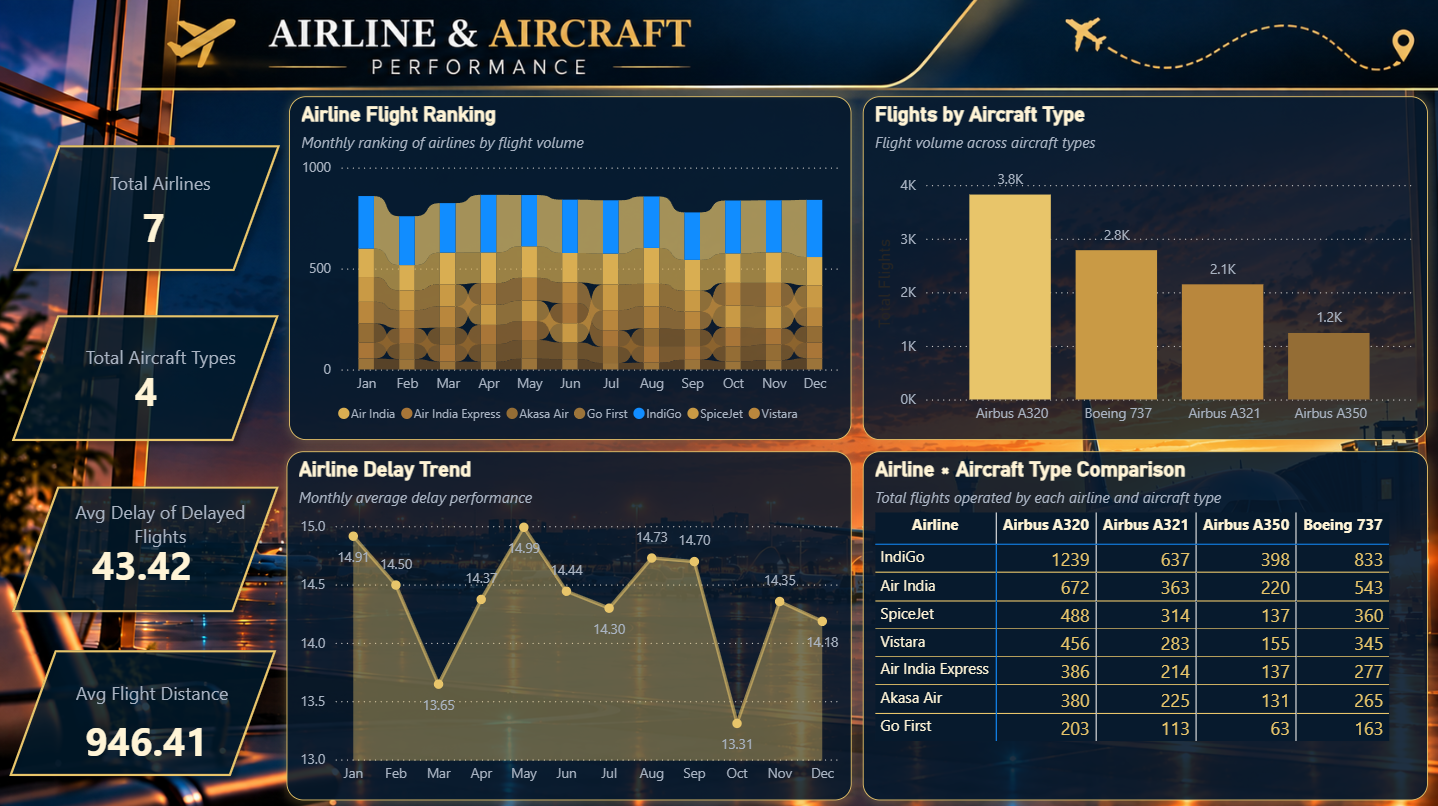

This screenshot's page, from the dashboard's own definition file:
{"tool":"powerbi","page":{"name":"Airline & Aircraft Performance","canvas":[1280,720],"ordinal":2},"visuals":[{"type":"image","box":[0,0,1280,720],"z":0},{"type":"ribbonChart","title":"Airline Flight Ranking","fields":{"Category":["Date_Table.Month"],"Y":["Flight_Data.Total Flights"],"Series":["Flight_Data.Airline"]},"box":[257.8,85.6,500,305.6],"z":1000},{"type":"clusteredColumnChart","title":"Flights by Aircraft Type","fields":{"Category":["Flight_Data.Aircraft_Type"],"Y":["Flight_Data.Total Flights"]},"box":[767.8,85.6,502.2,305.6],"z":2000},{"type":"areaChart","title":"Airline Delay Trend","fields":{"Category":["Date_Table.Month"],"Y":["Flight_Data.Average Delay"]},"box":[255.6,401.1,502.2,310],"z":3000},{"type":"pivotTable","title":"Airline × Aircraft Type Comparison","fields":{"Rows":["Flight_Data.Airline"],"Values":["Flight_Data.Total Flights"],"Columns":["Flight_Data.Aircraft_Type"]},"box":[767.8,401.1,502.2,310],"z":4000},{"type":"shape","box":[3.3,120,255.6,130],"z":5000},{"type":"shape","box":[102.2,174.4,70,53.3],"z":6000},{"type":"shape","box":[61.1,138.9,164.4,46.7],"z":7000},{"type":"shape","box":[2.2,423.3,255.6,130],"z":8000},{"type":"shape","box":[0,568.9,255.6,130],"z":9000},{"type":"shape","box":[2.2,271.1,255.6,130],"z":10000},{"type":"shape","box":[87.8,316.7,85.6,58.9],"z":11000},{"type":"shape","box":[66.7,476.7,121.1,50],"z":12000},{"type":"shape","box":[64.4,634.4,133.3,45.6],"z":13000},{"type":"shape","box":[65.6,291.1,156.7,50],"z":14000},{"type":"shape","box":[64.4,442.2,157.8,46.7],"z":15000},{"type":"shape","box":[55.6,588.9,161.1,53.3],"z":16000}]}

Visuals, with their boxes in screenshot pixels (x1, y1, x2, y2), scaled from the page's 1280x720 canvas onto the 1438x806 screenshot:
image: (left=0, top=0, right=1437, bottom=805)
"Airline Flight Ranking" ribbonChart: (left=290, top=96, right=851, bottom=438)
"Flights by Aircraft Type" clusteredColumnChart: (left=863, top=96, right=1427, bottom=438)
"Airline Delay Trend" areaChart: (left=287, top=449, right=851, bottom=796)
"Airline × Aircraft Type Comparison" pivotTable: (left=863, top=449, right=1427, bottom=796)
shape: (left=4, top=134, right=291, bottom=280)
shape: (left=115, top=195, right=193, bottom=255)
shape: (left=69, top=155, right=253, bottom=208)
shape: (left=2, top=474, right=290, bottom=619)
shape: (left=0, top=637, right=287, bottom=782)
shape: (left=2, top=303, right=290, bottom=449)
shape: (left=99, top=355, right=195, bottom=420)
shape: (left=75, top=534, right=211, bottom=590)
shape: (left=72, top=710, right=222, bottom=761)
shape: (left=74, top=326, right=250, bottom=382)
shape: (left=72, top=495, right=250, bottom=547)
shape: (left=62, top=659, right=243, bottom=719)
